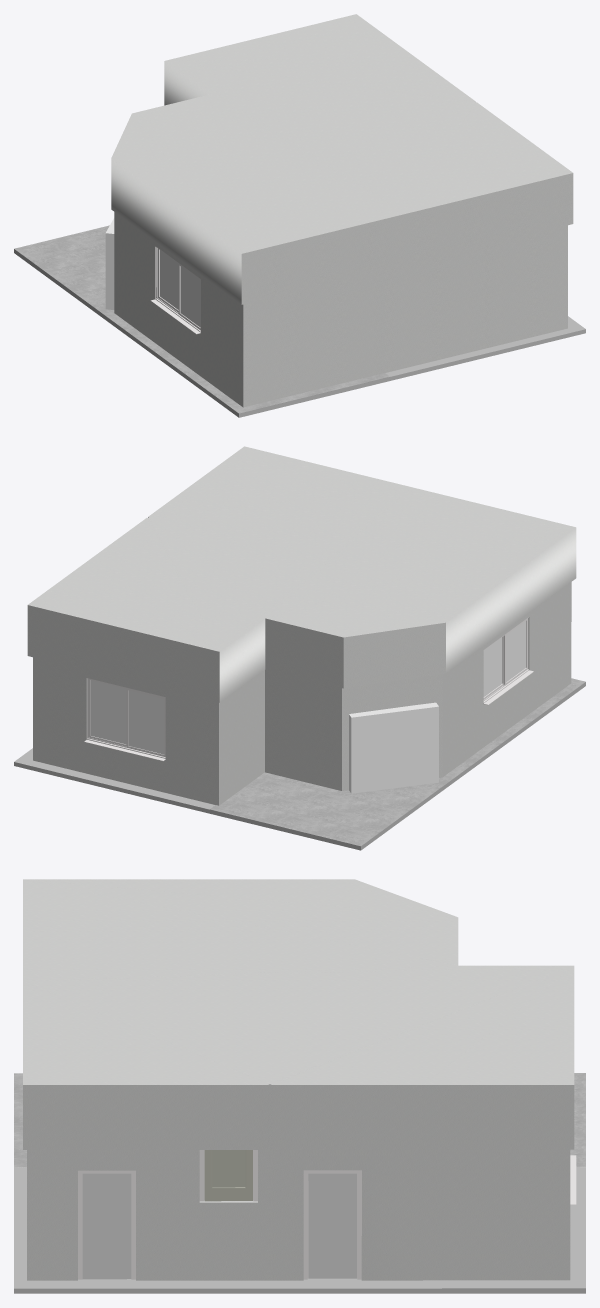
Rendered from FloorPlan203_physics.fbx.
The picture shows the model from 3 angles, top to bottom: view 1: azimuth 30°, elevation 25°; view 2: azimuth 150°, elevation 25°; view 3: azimuth 270°, elevation 25°; orthographic projection. The views are drawn at different scales.
Parts seen in each view (by area): view 1: FP203:Ceiling.008, FP203:Room, FP203:Floor, FP203:polySurface5, FP203:polySurface4, FP203:Cube.040; view 2: FP203:Ceiling.008, FP203:Room, FP203:Floor, FP203:Cube.040, FP203:Window1, FP203:Window2, FP203:polySurface5, FP203:polySurface3, FP203:polySurface4; view 3: FP203:Ceiling.008, FP203:Room, FP203:Floor, FP203:Door.001, FP203:Door, FP203:Door.002, FP203:polySurface9, FP203:polySurface8, FP203:polySurface1.
Part boxes in pixels (left/top/right/bottom): FP203:Ceiling.008: left=111, top=14, right=573, bottom=304; FP203:Room: left=114, top=212, right=567, bottom=407; FP203:Floor: left=14, top=225, right=585, bottom=417; FP203:polySurface5: left=160, top=250, right=200, bottom=327; FP203:polySurface4: left=150, top=246, right=200, bottom=334; FP203:Cube.040: left=105, top=218, right=114, bottom=309; FP203:Ceiling.008: left=27, top=446, right=576, bottom=702; FP203:Room: left=33, top=582, right=571, bottom=805; FP203:Floor: left=14, top=678, right=585, bottom=850; FP203:Cube.040: left=349, top=702, right=438, bottom=793; FP203:Window1: left=128, top=690, right=164, bottom=754; FP203:Window2: left=91, top=680, right=126, bottom=744; FP203:polySurface5: left=483, top=621, right=526, bottom=696; FP203:polySurface3: left=84, top=678, right=165, bottom=761; FP203:polySurface4: left=483, top=617, right=533, bottom=705; FP203:Ceiling.008: left=23, top=879, right=574, bottom=1149; FP203:Room: left=27, top=1149, right=570, bottom=1280; FP203:Floor: left=14, top=1073, right=585, bottom=1293; FP203:Door.001: left=82, top=1173, right=131, bottom=1279; FP203:Door: left=308, top=1173, right=356, bottom=1278; FP203:Door.002: left=204, top=1150, right=252, bottom=1201; FP203:polySurface9: left=303, top=1170, right=361, bottom=1279; FP203:polySurface8: left=78, top=1170, right=135, bottom=1279; FP203:polySurface1: left=199, top=1150, right=257, bottom=1201.
Bounding box in the file's own units: 876 × 392 × 984.
